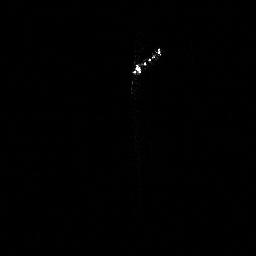ship: (130, 45, 164, 97)
